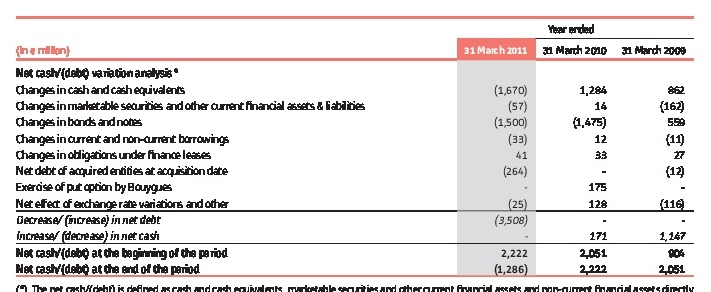table: (0, 0, 711, 292)
